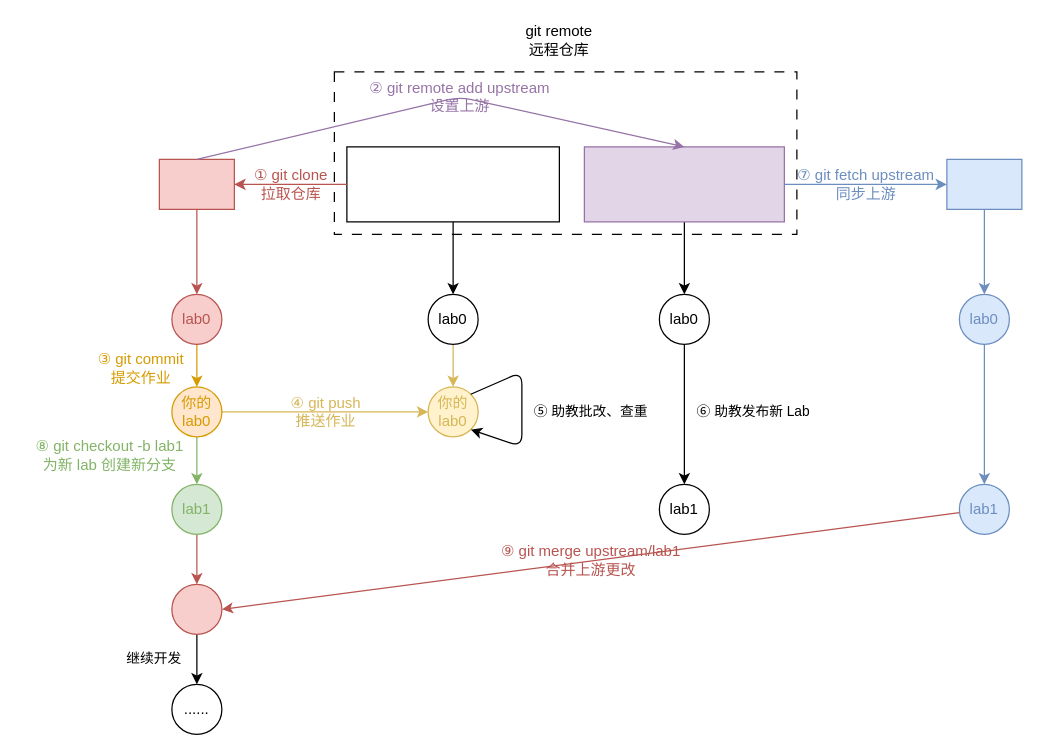
Image size: 1044x756. Some labels were removed from this diagram. The centre of each missing label's shape, as x and y in pixels:
origin（学生私有仓库） git@zju.edu.cn:os/2025/...: the point at 452,184
upstream（发布仓库） git@zju.edu.cn:os/code.git: the point at 683,184
合并的 lab1: the point at 196,608
本地 origin: the point at 196,183
本地 upstream: the point at 984,183
